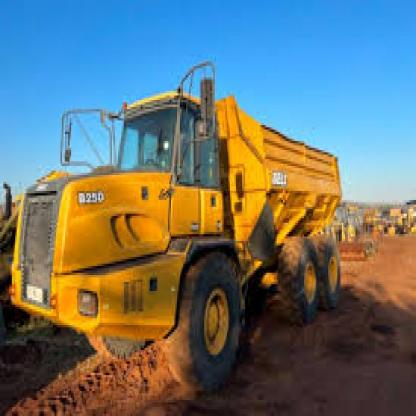dump_truck: (12, 61, 368, 378)
